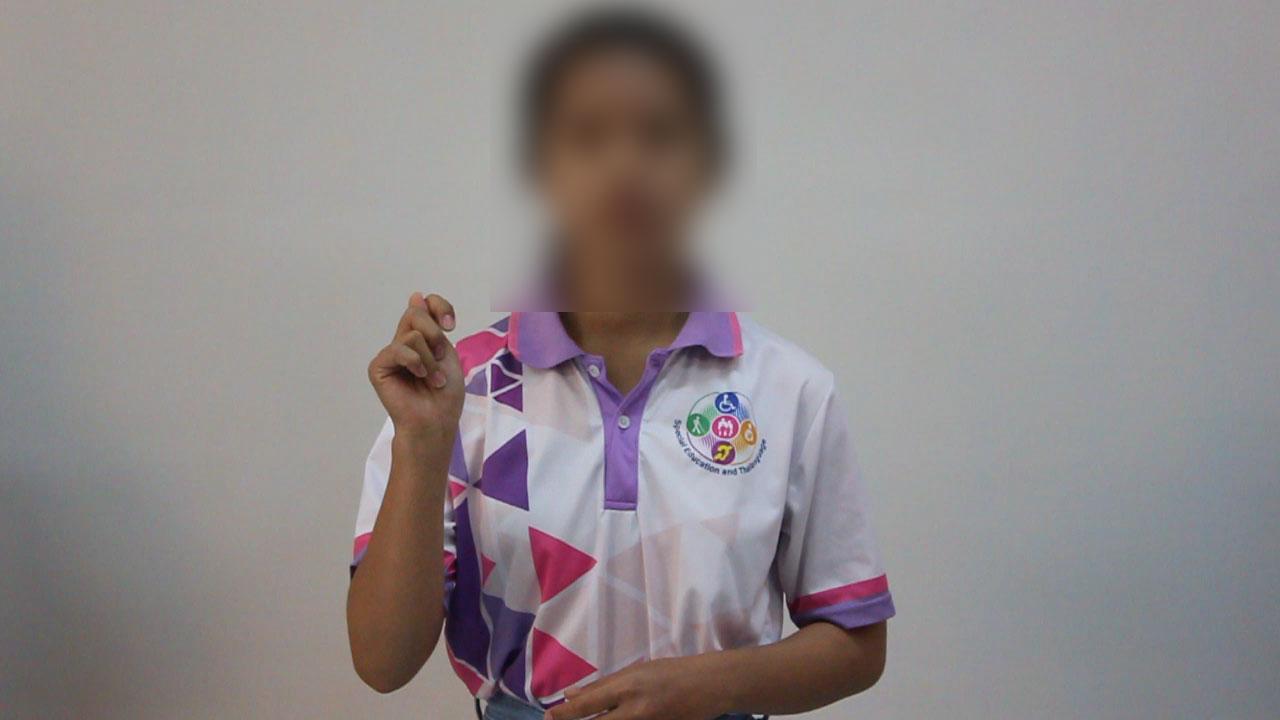tor: (348, 272, 501, 459)
